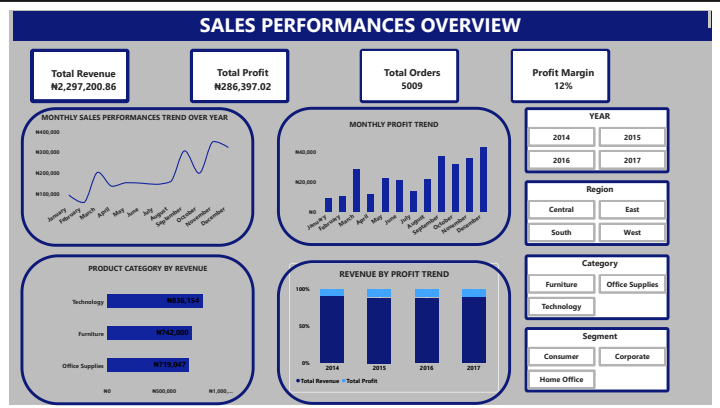

What the dashboard file says about the page in this screenshot:
{"tool":"powerbi","page":{"name":"SALES PERFORMANCES OVERVIEW","canvas":[1920,1080],"ordinal":0},"visuals":[{"type":"textbox","box":[10.8,0,1909.4,82.1],"z":0},{"type":"cardVisual","fields":{"Data":["Product Table.Total Sales"]},"box":[58.3,103.7,272.2,149],"z":1000},{"type":"cardVisual","fields":{"Data":["Product Table.Total Profit"]},"box":[494.6,103.7,272.2,149],"z":2000},{"type":"cardVisual","fields":{"Data":["Product Table.Total Orders"]},"box":[959,103.7,272.2,149],"z":3000},{"type":"cardVisual","fields":{"Data":["Product Table.Profit Margin"]},"box":[1371.6,103.7,272.2,149],"z":4000},{"type":"lineChart","title":"MONTHLY SALES PERFORMANCES TREND OVER YEAR","fields":{"Category":["Date.Month name"],"Y":["Product Table.Total Sales"]},"box":[58.3,263.5,572.4,362.9],"z":5000},{"type":"shape","box":[33,264.1,638.3,381.5],"z":6000},{"type":"clusteredColumnChart","title":"MONTHLY PROFIT TREND","fields":{"Category":["Date.Month name"],"Y":["Product Table.Total Profit"]},"box":[766.8,280.8,572.4,365],"z":7000},{"type":"shape","box":[732.8,263.5,640.1,380.8],"z":8000},{"type":"barChart","title":"PRODUCT CATEGORY BY REVENUE ","fields":{"Category":["Product Table.Category"],"Y":["Product Table.Total Revenue"]},"box":[129.6,676.1,501.1,397.4],"z":9000},{"type":"shape","box":[32.4,667.4,639.4,412.6],"z":10000},{"type":"advancedSlicerVisual","fields":{"Values":["Date.YEAR"]},"box":[1410.5,263.5,395.3,181.4],"z":11000},{"type":"advancedSlicerVisual","fields":{"Values":["Regional data.Region"]},"box":[1410.5,464.4,395.3,179.3],"z":12000},{"type":"advancedSlicerVisual","fields":{"Values":["Product Table.Category"]},"box":[1410.5,667.4,395.3,179.3],"z":13000},{"type":"advancedSlicerVisual","fields":{"Values":["customer table.Segment"]},"box":[1410.5,866.2,395.3,179.3],"z":14000},{"type":"hundredPercentStackedColumnChart","title":"REVENUE BY PROFIT TREND","fields":{"Category":["Date.YEAR"],"Y":["Product Table.Total Revenue","Product Table.Total Profit"]},"box":[766.8,691.2,572.4,354.2],"z":15000},{"type":"shape","box":[732.8,683.4,640.1,395.2],"z":16000}]}

Visuals, with their boxes in screenshot pixels (x1, y1, x2, y2), scaled from the page's 1920x1080 canvas onto the 720x408 screenshot:
textbox: <region>4, 0, 719, 31</region>
cardVisual - Product Table.Total Sales: <region>22, 39, 124, 95</region>
cardVisual - Product Table.Total Profit: <region>185, 39, 288, 95</region>
cardVisual - Product Table.Total Orders: <region>360, 39, 462, 95</region>
cardVisual - Product Table.Profit Margin: <region>514, 39, 616, 95</region>
"MONTHLY SALES PERFORMANCES TREND OVER YEAR" lineChart: <region>22, 100, 237, 237</region>
shape: <region>12, 100, 252, 244</region>
"MONTHLY PROFIT TREND" clusteredColumnChart: <region>288, 106, 502, 244</region>
shape: <region>275, 100, 515, 243</region>
"PRODUCT CATEGORY BY REVENUE " barChart: <region>49, 255, 237, 406</region>
shape: <region>12, 252, 252, 407</region>
advancedSlicerVisual - Date.YEAR: <region>529, 100, 677, 168</region>
advancedSlicerVisual - Regional data.Region: <region>529, 175, 677, 243</region>
advancedSlicerVisual - Product Table.Category: <region>529, 252, 677, 320</region>
advancedSlicerVisual - customer table.Segment: <region>529, 327, 677, 395</region>
"REVENUE BY PROFIT TREND" hundredPercentStackedColumnChart: <region>288, 261, 502, 395</region>
shape: <region>275, 258, 515, 407</region>
